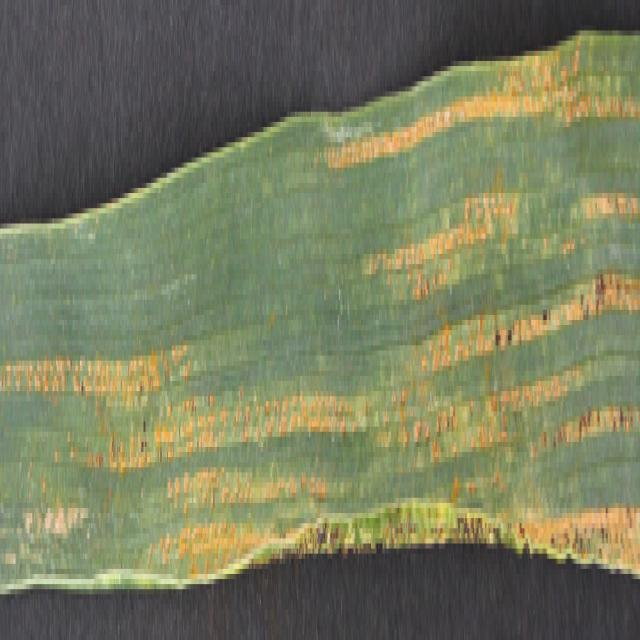leaf rust: (327, 26, 639, 548), (1, 290, 324, 594)
